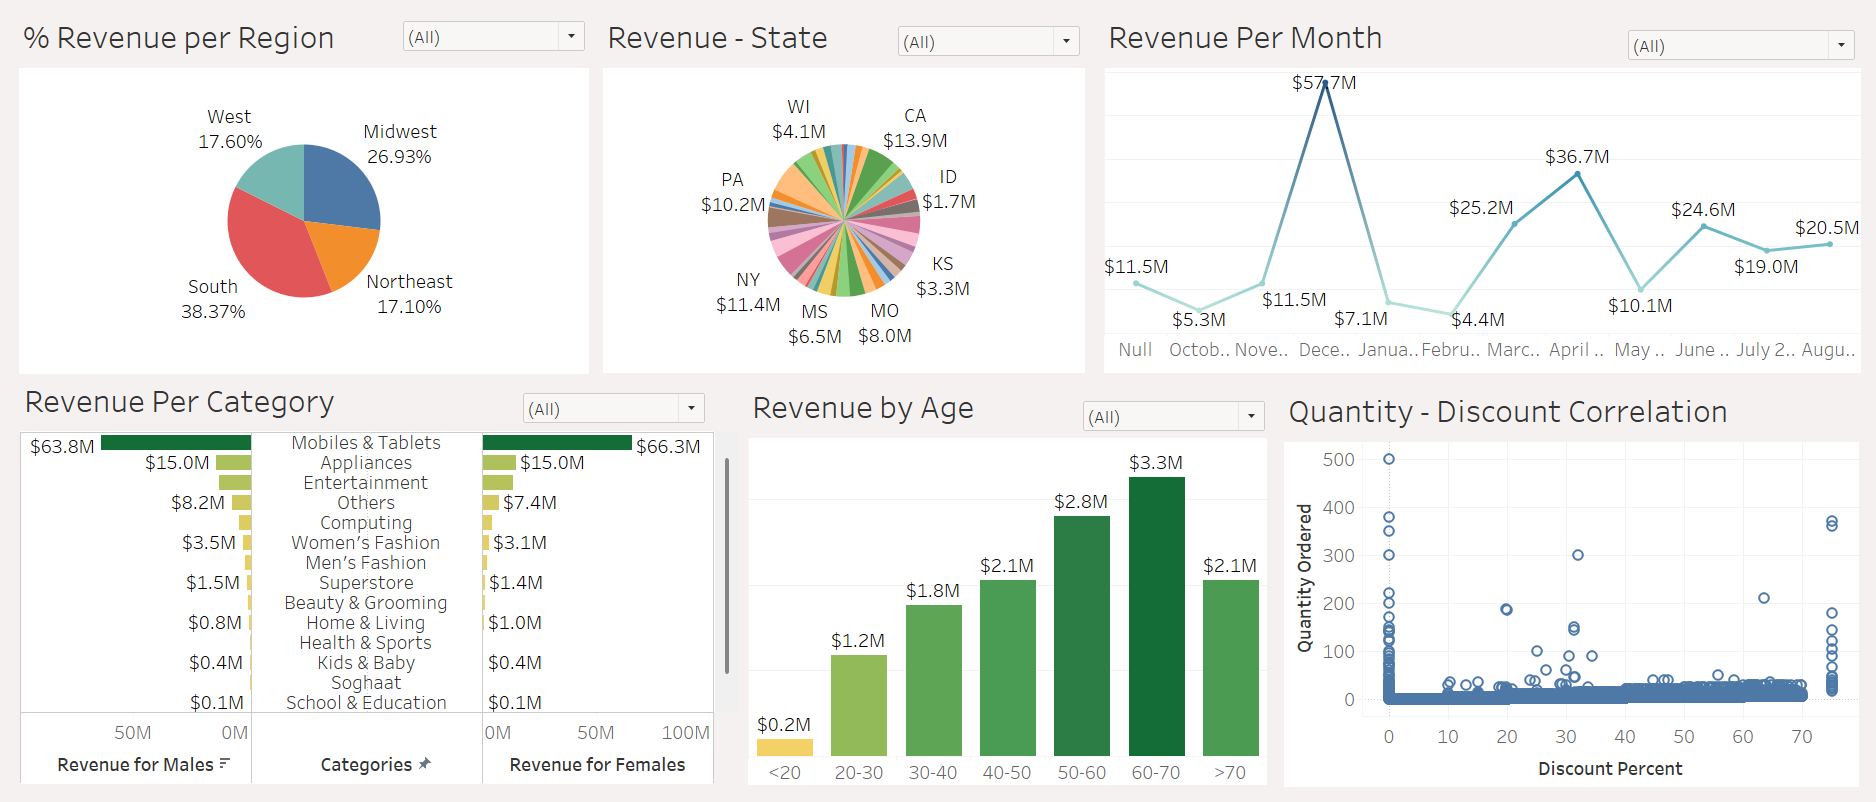

The dashboard page shown, as its layout file describes it:
{"tool":"tableau","page":{"name":"My Sales Dashboard","canvas":[1000,1000],"units":"permille","ordinal":0},"visuals":[{"type":"worksheet","title":"% Revenue per Region","mark":"Pie","rows":["Calculation_998954750056755203","Calculation_998954750056755203"],"box":[10.6,13.7,303,450.4]},{"type":"worksheet","title":"Revenue Per State","mark":"Pie","box":[321.1,13.7,256.2,449.1]},{"type":"worksheet","title":"Revenue Per Month","mark":"Automatic","rows":["total"],"cols":["month"],"box":[587.3,13.7,402.1,449.1]},{"type":"filter","title":"Revenue by Age","param":"[federated.17vzoqb0uy6kks19izl8n02ihrt0].[none:Age (bin):ok]","box":[576.5,452.9,99.4,83.1]},{"type":"filter","title":"Revenue Per Category","param":"[federated.17vzoqb0uy6kks19izl8n02ihrt0].[none:category:nk]","box":[294.4,457.8,99.9,75.7]},{"type":"worksheet","title":"Quantity Vs Discount Correlation","mark":"Automatic","rows":["qty_ordered"],"cols":["Discount_Percent"],"box":[682.8,470.2,305.5,503.7]},{"type":"worksheet","title":"Revenue by Age","mark":"Automatic","rows":["age"],"cols":["Age (bin)"],"box":[397.8,472.7,276.2,501.2]},{"type":"worksheet","title":"Revenue Per Category","mark":"Automatic","rows":["category"],"cols":["Calculation_998954750002372609","Calculation_998954750003204098","Calculation_998954750001659904"],"box":[11.2,473.9,382,498.8]}]}

Visuals, with their boxes on the dashboard's canvas, which has no fixed pixel size, in thousandths of its width and height (x1, y1, x2, y2). These are canvas units, not pixel positions in the 1876x802 screenshot, which may show the page scaled, cropped or inside an application window:
"% Revenue per Region" worksheet (Pie marks): (x1=11, y1=14, x2=314, y2=464)
"Revenue Per State" worksheet (Pie marks): (x1=321, y1=14, x2=577, y2=463)
"Revenue Per Month" worksheet: (x1=587, y1=14, x2=989, y2=463)
"Revenue by Age" filter: (x1=576, y1=453, x2=676, y2=536)
"Revenue Per Category" filter: (x1=294, y1=458, x2=394, y2=534)
"Quantity Vs Discount Correlation" worksheet: (x1=683, y1=470, x2=988, y2=974)
"Revenue by Age" worksheet: (x1=398, y1=473, x2=674, y2=974)
"Revenue Per Category" worksheet: (x1=11, y1=474, x2=393, y2=973)
